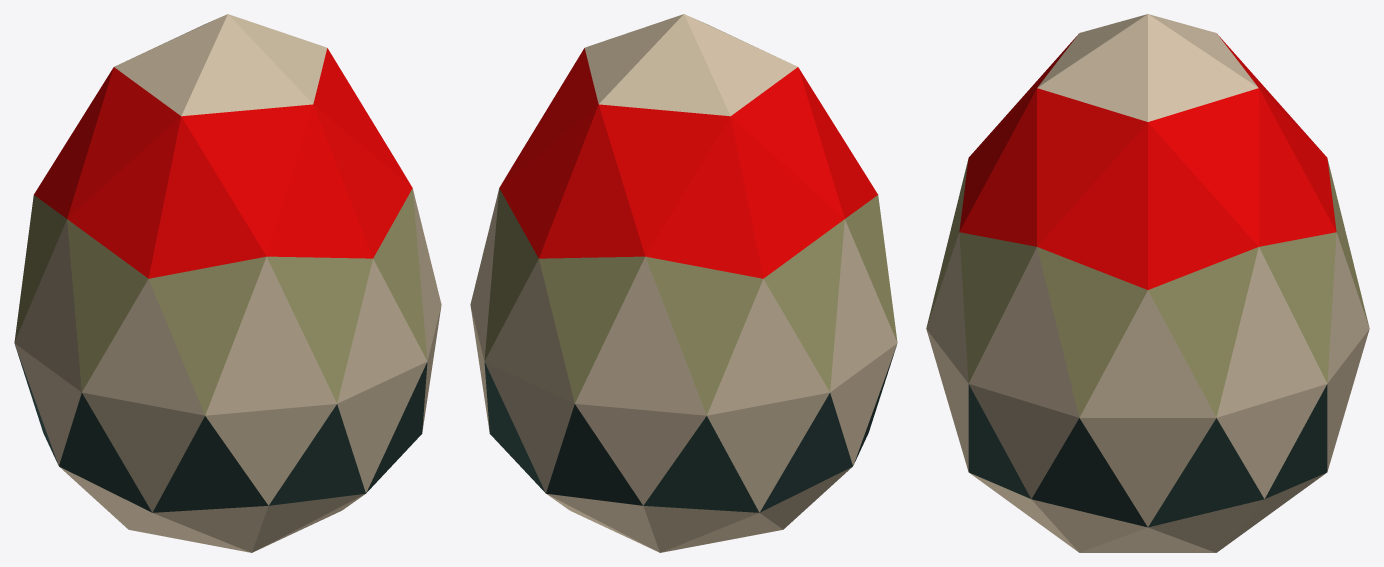
Rendered from LightStoneDecorationSmallEasterEgg3.fbx.
The picture shows the model from 3 angles, left to right: view 1: azimuth 30°, elevation 25°; view 2: azimuth 150°, elevation 25°; view 3: azimuth 270°, elevation 25°; orthographic projection.
Visible parts, largest first — view 1: LightStoneDecorationSmallEasterEgg3; view 2: LightStoneDecorationSmallEasterEgg3; view 3: LightStoneDecorationSmallEasterEgg3.
Boxes of the visible parts, bbox=[...] form: LightStoneDecorationSmallEasterEgg3: bbox=[14, 14, 441, 552]; LightStoneDecorationSmallEasterEgg3: bbox=[470, 14, 897, 552]; LightStoneDecorationSmallEasterEgg3: bbox=[926, 14, 1369, 552].
Size of the model in its own units: 80.82 by 112 by 84.98.
